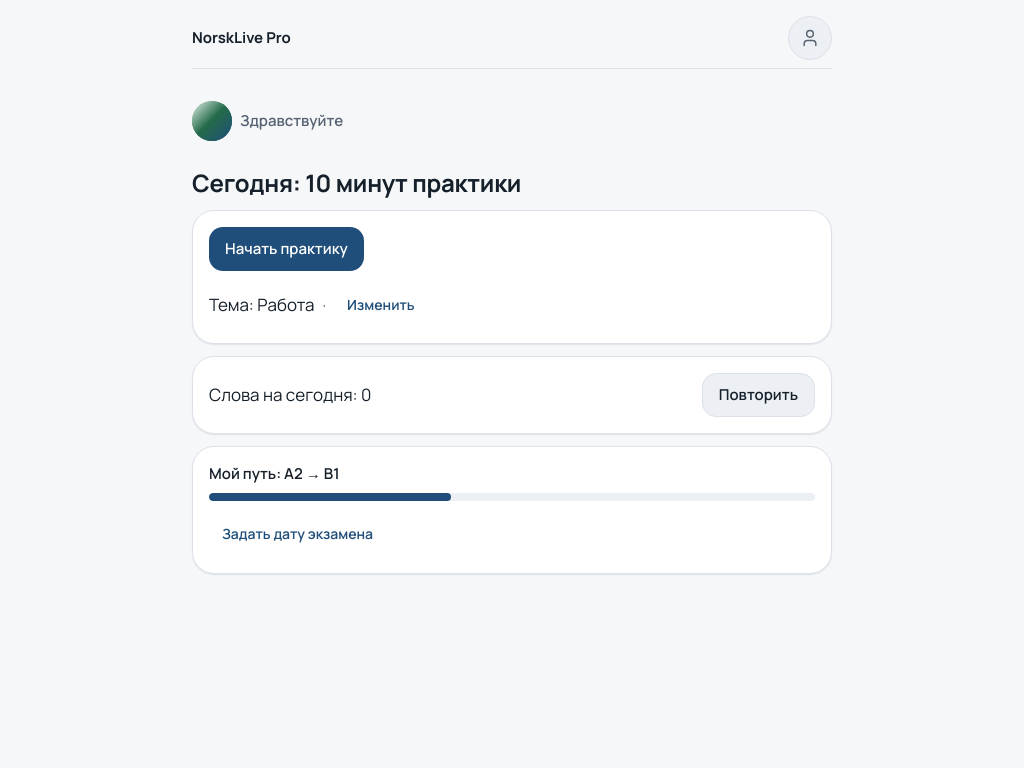
it: PathHome & FirstRun Redesign (Issue #55) › changes chosen topic using the topic selection sheet
Expected: the text "Тема: Работа" is shown, [209,292,314,318]
# Click «Изменить» to open topic sheet
Click the button "Изменить": (381,305) [334,283,428,327]
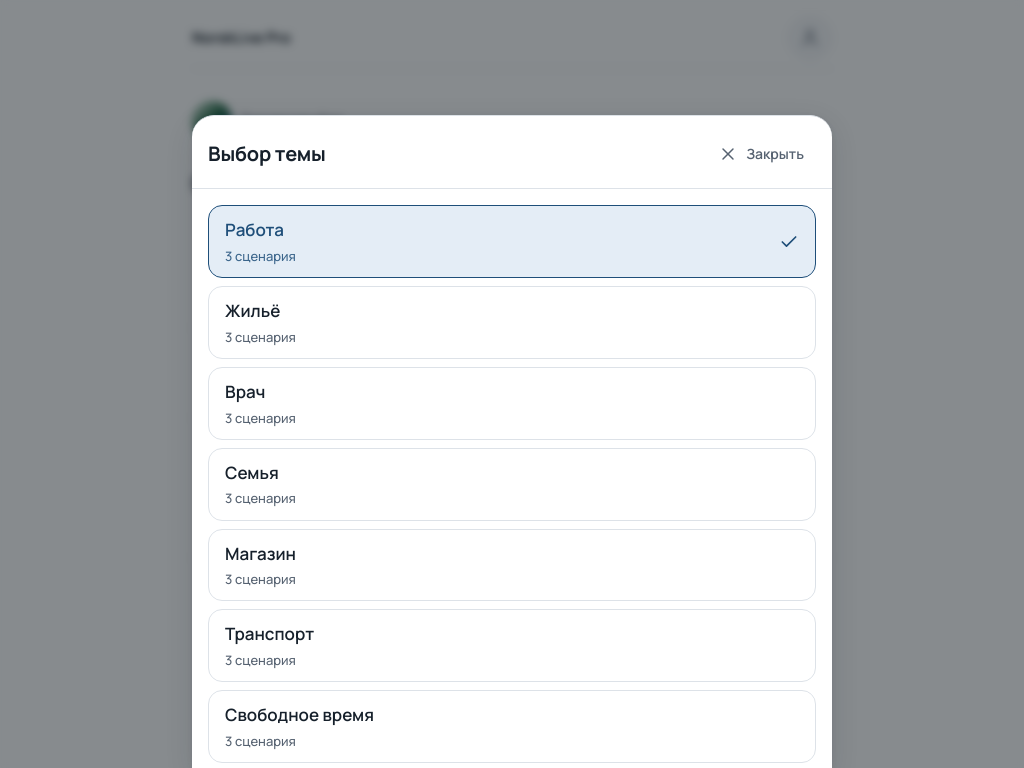
Now the dialog "Выбор темы" is shown, box [192,115,832,767]
# Select «Врач»
Click the button "Врач 3 сценария": (245,391) [208,367,816,440]
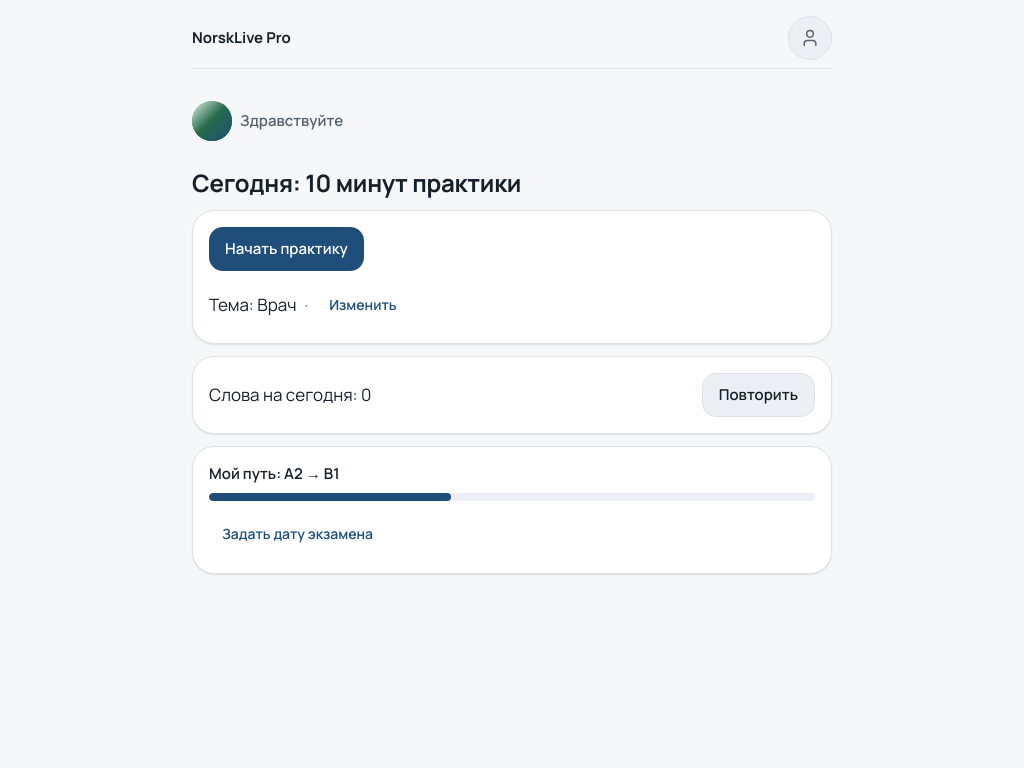
Now the heading "Выбор темы" is gone
Now the text "Тема: Врач" is shown, box [209,292,296,318]
